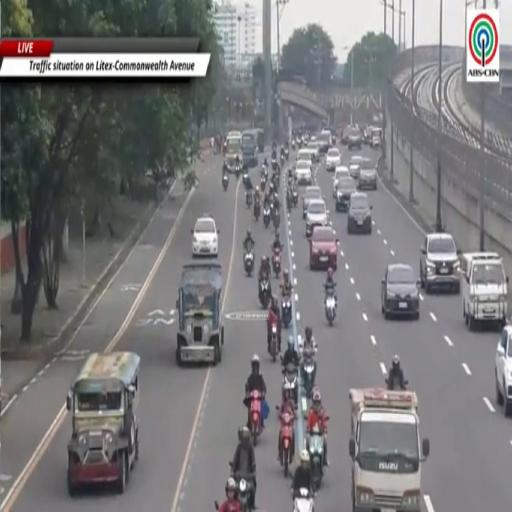car: (420, 233, 461, 294), (381, 264, 419, 318), (496, 325, 511, 415), (310, 227, 338, 269), (192, 216, 218, 257), (348, 192, 372, 234), (306, 199, 327, 237), (336, 176, 356, 212), (303, 186, 323, 219), (358, 158, 377, 189), (333, 166, 350, 197), (295, 160, 312, 185), (326, 148, 341, 172), (349, 155, 362, 180), (317, 131, 331, 153), (348, 128, 362, 150), (307, 141, 320, 163), (297, 149, 313, 165), (370, 128, 382, 149), (227, 131, 242, 138)
jeepney: (67, 352, 140, 495), (176, 263, 223, 365), (225, 134, 243, 173)
motorcycle: (279, 409, 294, 476), (309, 425, 324, 490), (232, 474, 255, 511), (249, 390, 263, 445), (282, 364, 298, 412), (302, 349, 315, 398), (294, 488, 314, 511), (258, 278, 271, 310), (325, 291, 336, 326), (282, 295, 291, 328), (270, 325, 278, 362), (385, 378, 408, 390), (244, 250, 254, 276), (273, 248, 281, 277), (263, 206, 270, 228), (273, 211, 280, 230), (254, 200, 260, 221), (272, 172, 279, 189), (286, 188, 291, 211), (222, 174, 229, 190), (234, 165, 242, 179), (292, 188, 298, 206), (243, 171, 250, 186), (246, 190, 252, 207), (271, 158, 278, 171), (261, 176, 266, 191), (280, 154, 285, 167), (223, 141, 226, 155), (292, 140, 296, 150), (285, 149, 288, 161)
truck: (349, 388, 429, 511), (460, 252, 508, 330), (242, 129, 258, 169)
